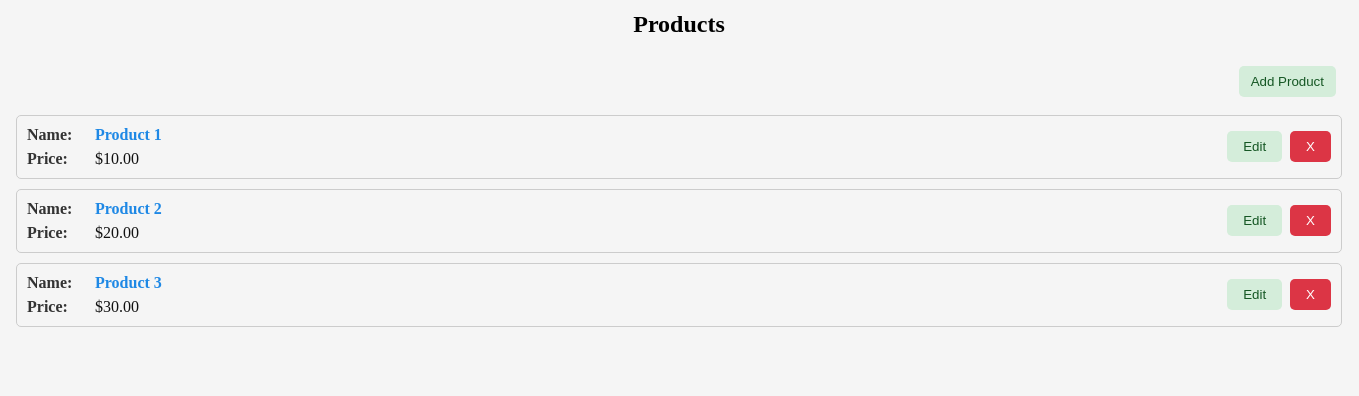
Scenario: ProductDashboard › Cancel Button Tests › should show Add Product button again after canceling
Click the button "Add Product" at (1287, 81), box [1239,66,1336,97]
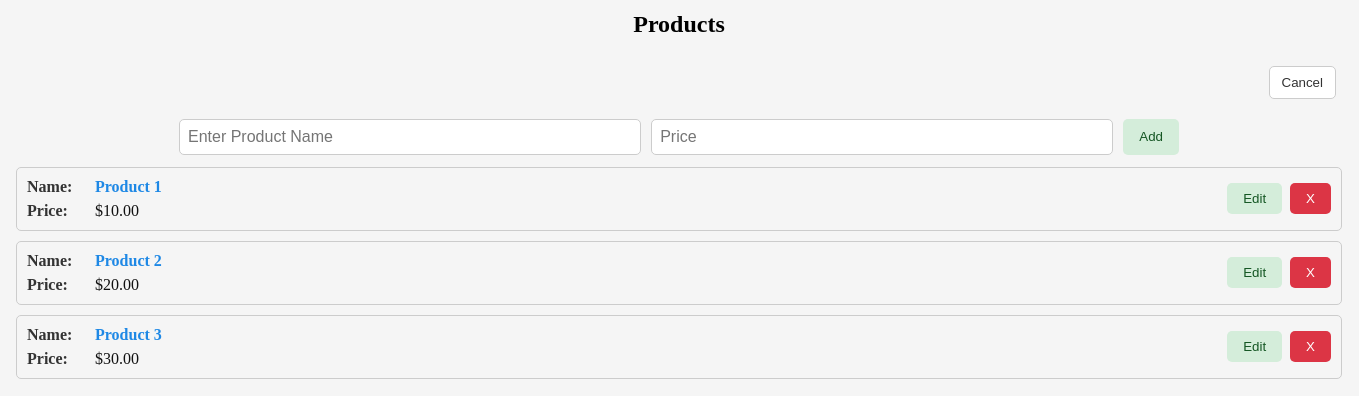
Click the button "Cancel" at (1302, 82), box [1268,66,1336,99]
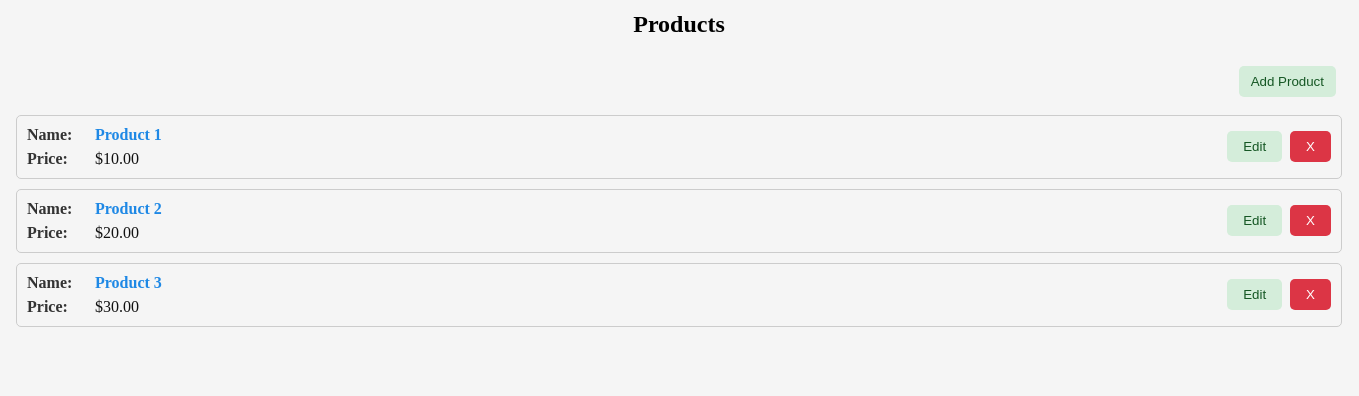
Expected: the button "Add Product" is shown, [1239,66,1336,97]
